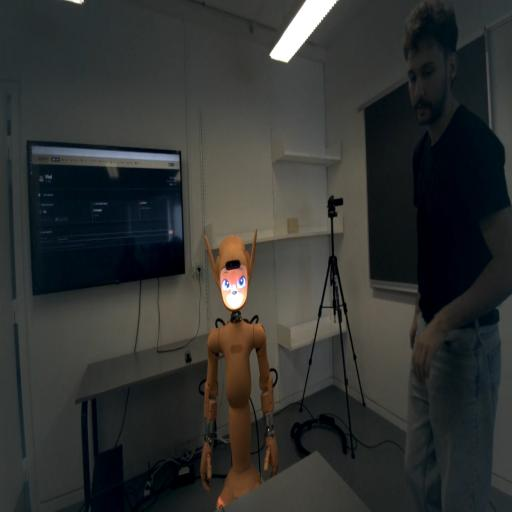Robot: (204, 232, 258, 314)
TV: (31, 150, 182, 285)
